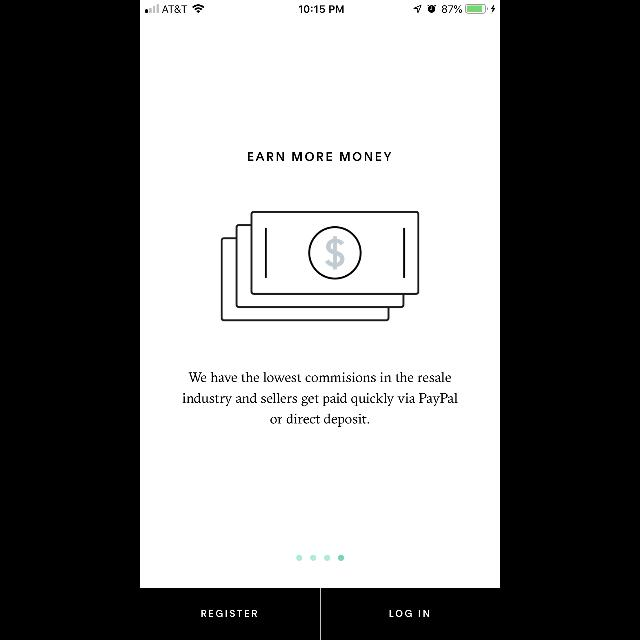image: (220, 210, 420, 322)
pageindicator: (296, 555, 344, 561)
text: (182, 372, 458, 426), (248, 152, 392, 162)
textbutton: (140, 588, 320, 640), (320, 588, 500, 640)
uppertaskbar: (140, 0, 500, 14)
